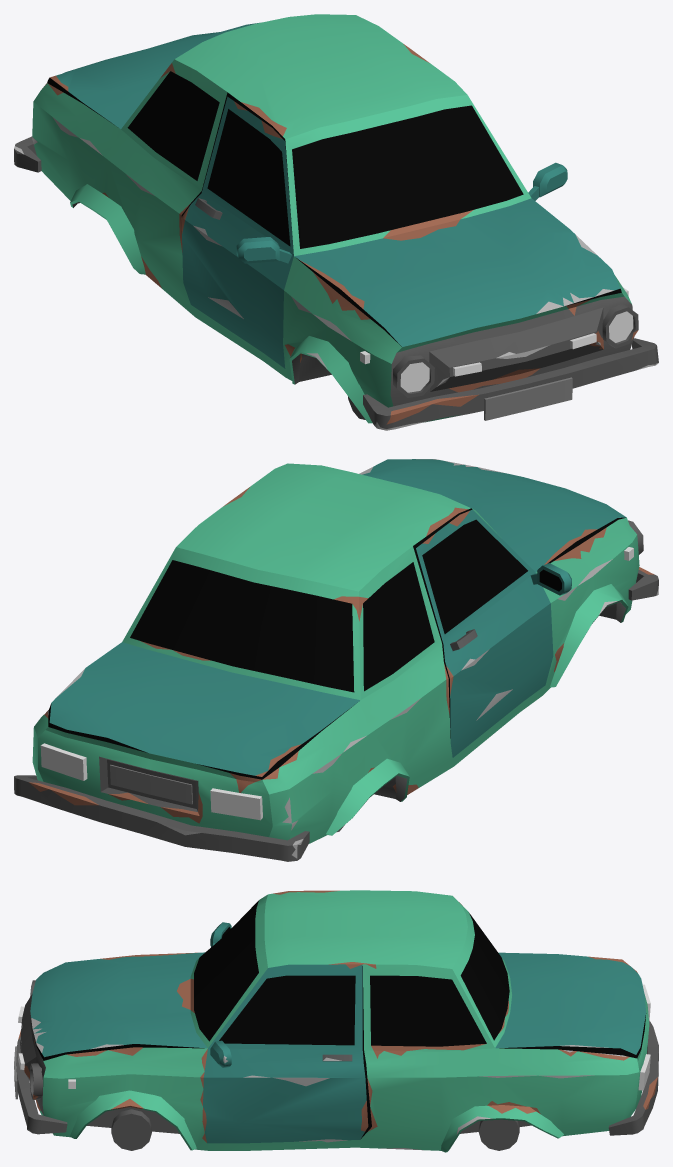
The model's file is mobilalkbjgsdkfhnasbdgfhcnabsvg.fbx.
The picture shows the model from 3 angles, top to bottom: view 1: azimuth 30°, elevation 25°; view 2: azimuth 150°, elevation 25°; view 3: azimuth 270°, elevation 25°; orthographic projection. The views are drawn at different scales.
Visible parts, largest first — view 1: car; view 2: car; view 3: car.
Part boxes in pixels (x1=…): car: x1=14, y1=14, x2=658, y2=430; car: x1=14, y1=459, x2=658, y2=861; car: x1=14, y1=890, x2=658, y2=1152.
Bounding box in the file's own units: 187 × 123 × 383.
